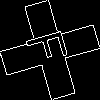F: (25, 25, 77, 67)
